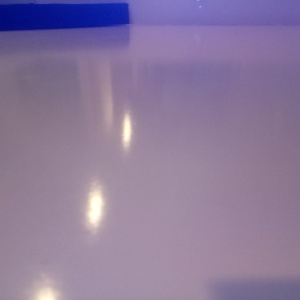zone: (1, 3, 130, 31)
